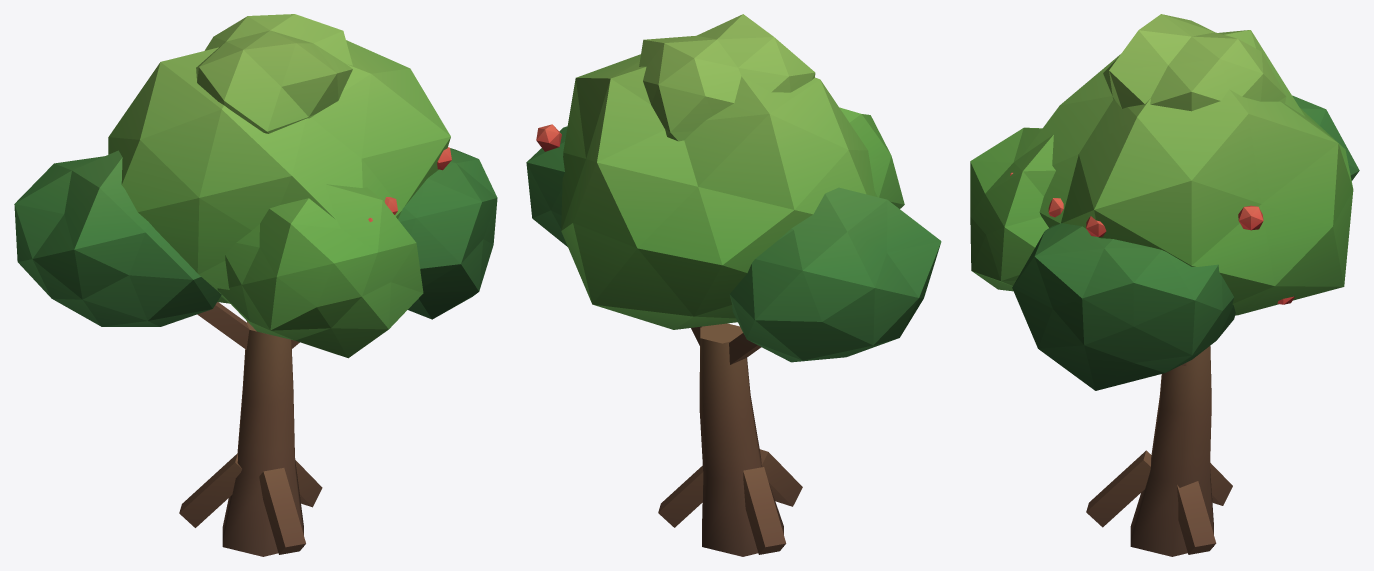
The model's file is tree_apple.glb.
The picture shows the model from 3 angles, left to right: view 1: azimuth 30°, elevation 25°; view 2: azimuth 150°, elevation 25°; view 3: azimuth 270°, elevation 25°; orthographic projection. The views are drawn at different scales.
Parts seen in each view (by area): view 1: tree_apple; view 2: tree_apple; view 3: tree_apple.
Boxes of the visible parts, box(x1,y1,x2,y2) form: tree_apple: box(14, 14, 497, 556); tree_apple: box(526, 14, 941, 556); tree_apple: box(970, 14, 1359, 556).
Bounding box in the file's own units: 14.96 × 17.68 × 12.13.
Materials: 1 (1 with a texture image).
